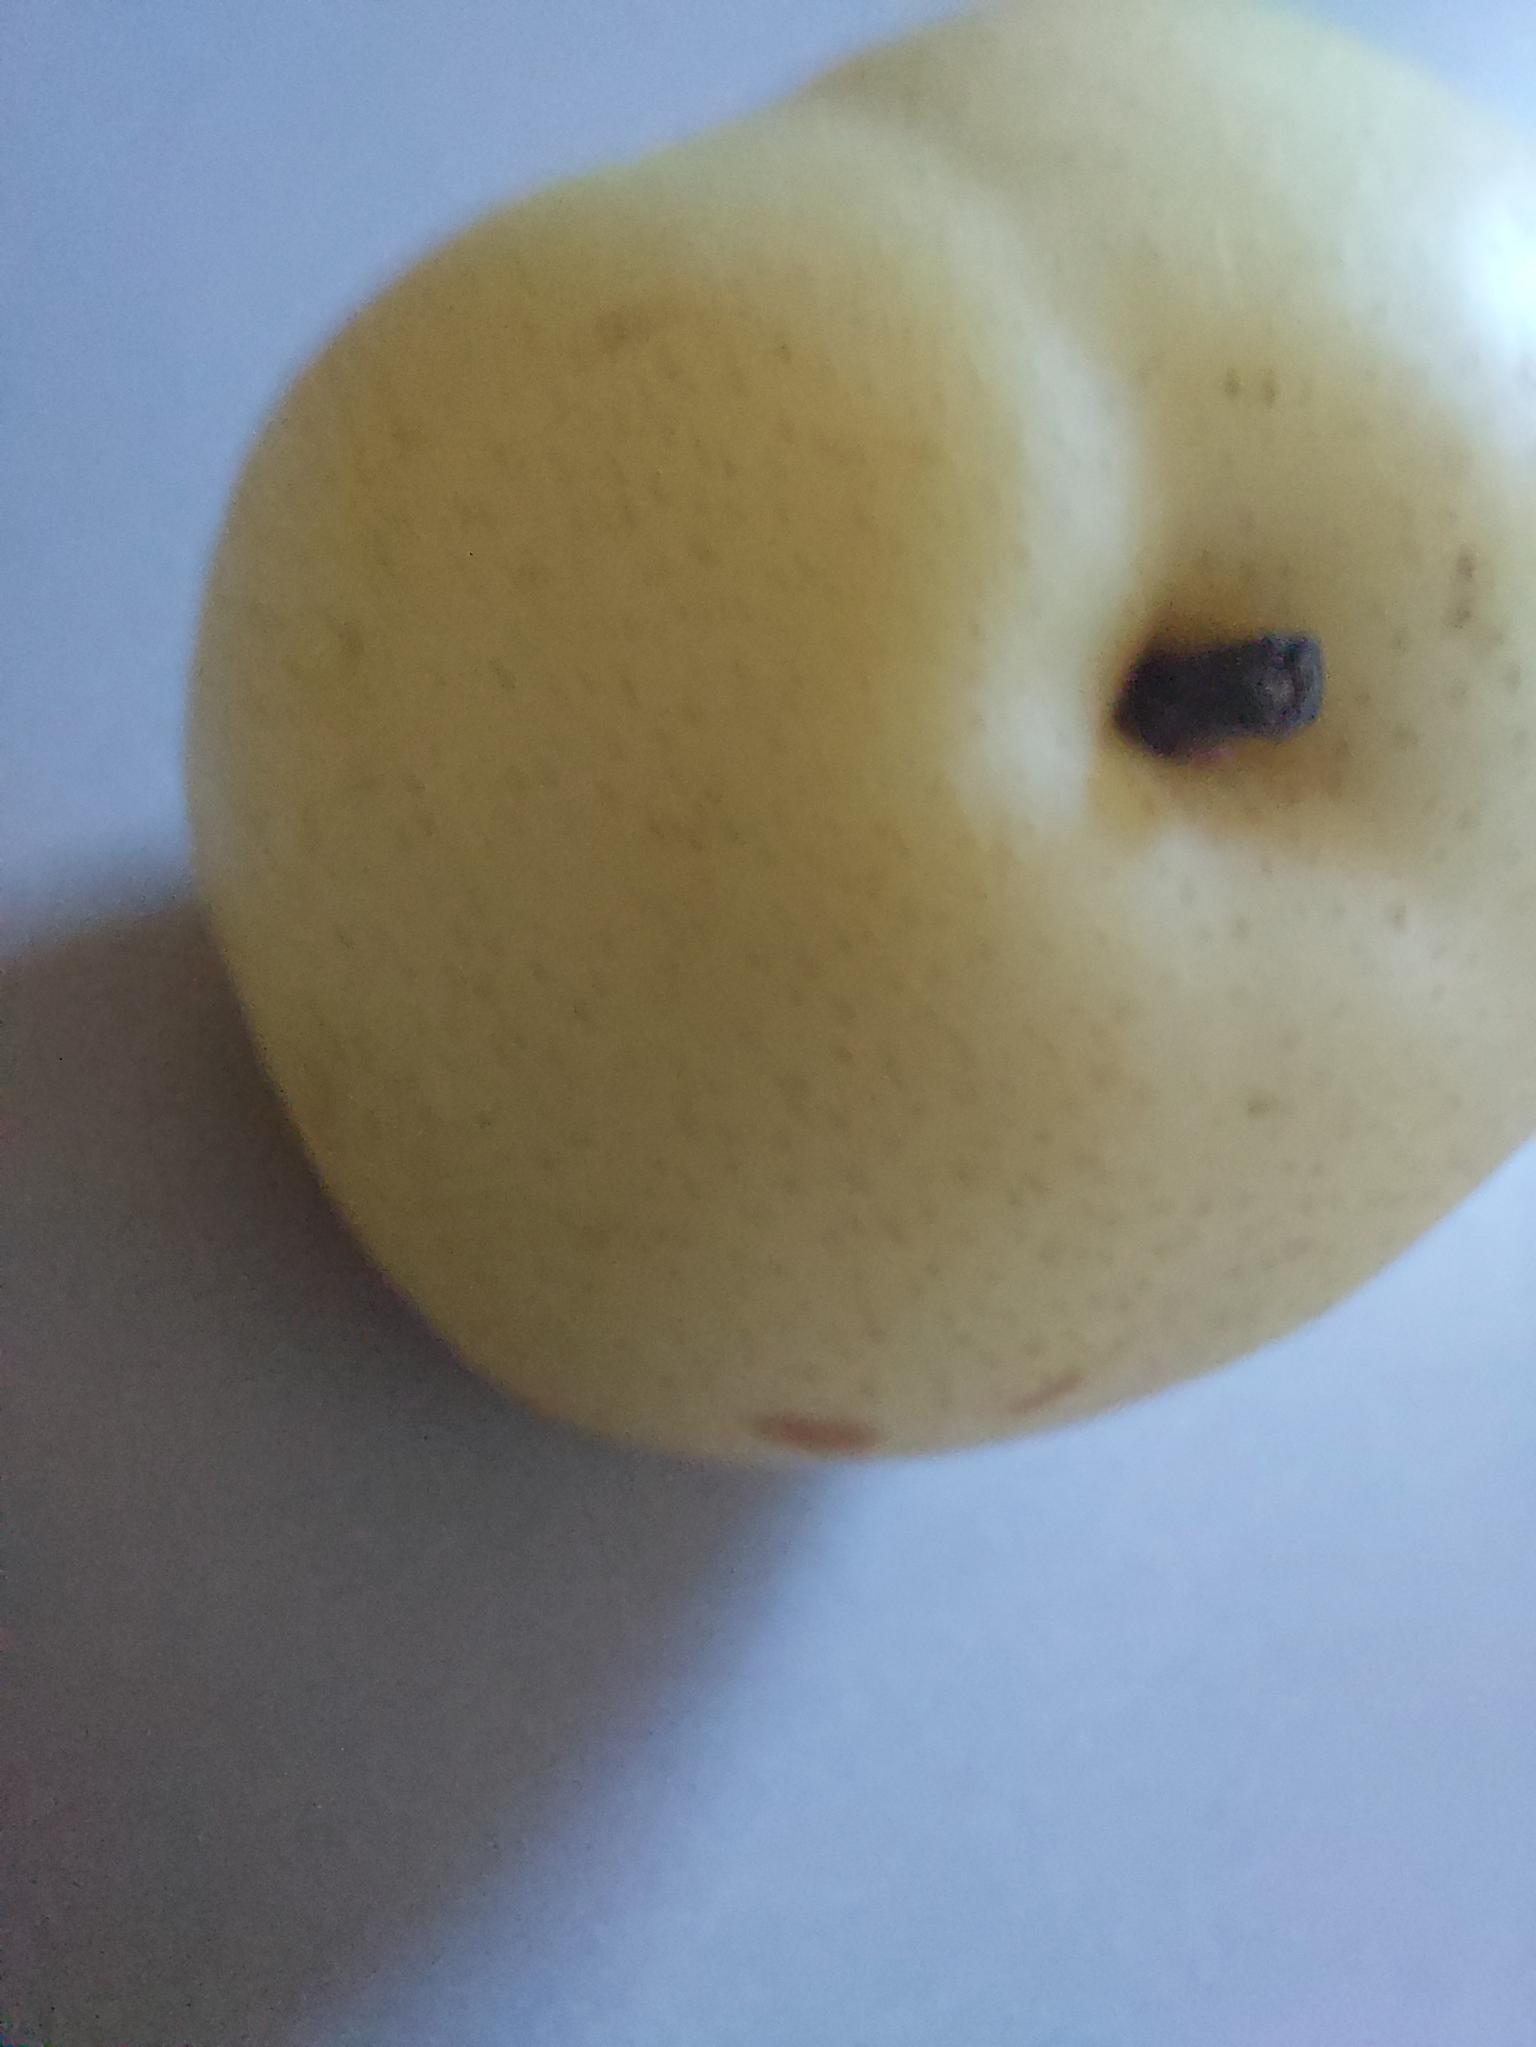Good Pear: (179, 0, 1536, 1470)
